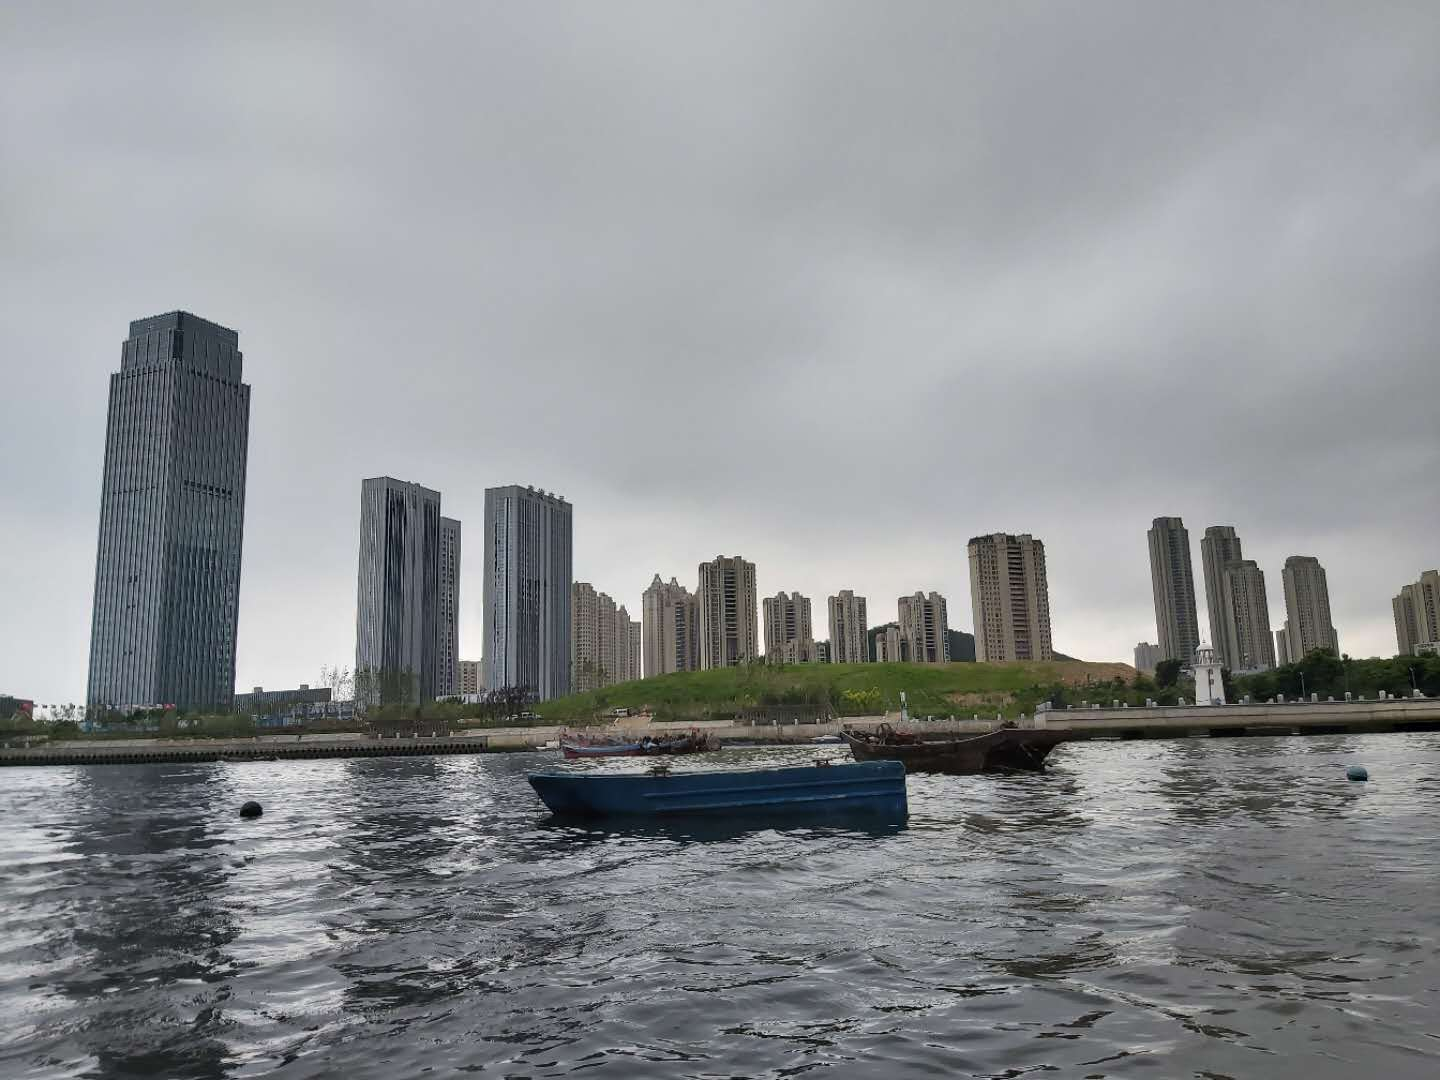ball: (225, 795, 272, 826), (1345, 754, 1372, 788)
boat: (516, 763, 937, 838), (818, 719, 1079, 768), (551, 727, 735, 757)
